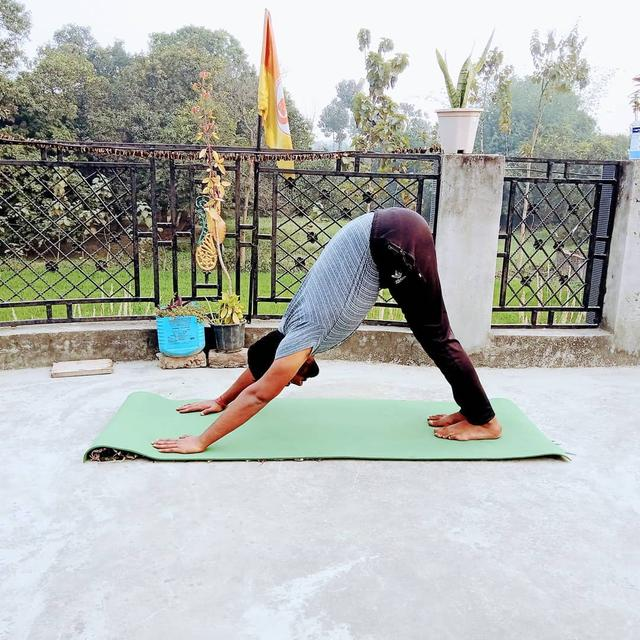Downward-Facing_Dog: (144, 197, 518, 455)
